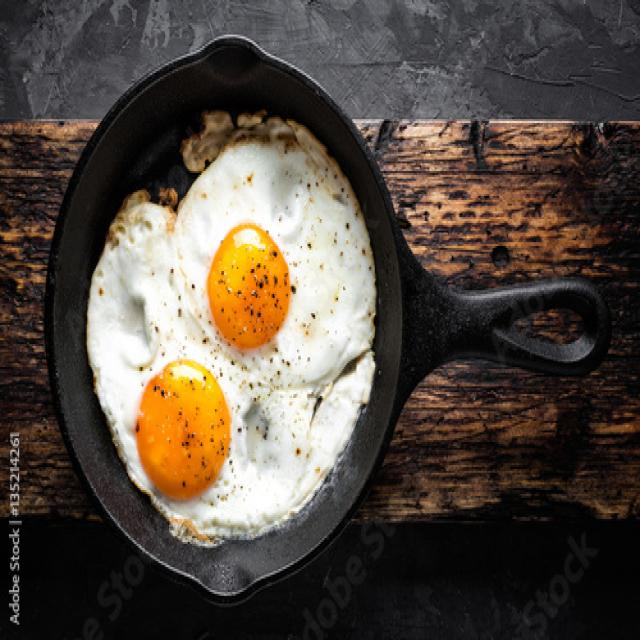Egg: (89, 118, 375, 540), (88, 205, 374, 541), (174, 118, 375, 388)
